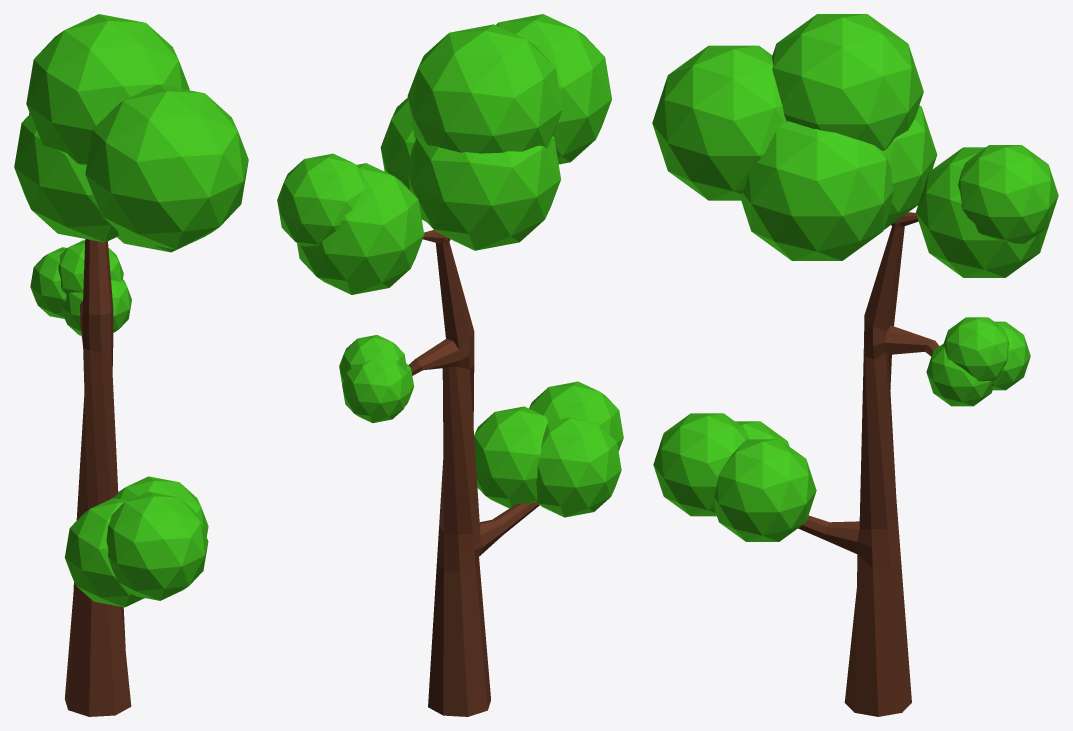
The model's file is tree2.fbx.
The picture shows the model from 3 angles, left to right: view 1: azimuth 30°, elevation 25°; view 2: azimuth 150°, elevation 25°; view 3: azimuth 270°, elevation 25°; orthographic projection. The views are drawn at different scales.
Parts seen in each view (by area): view 1: Cylinder.001; view 2: Cylinder.001; view 3: Cylinder.001.
Boxes of the visible parts, x1,y1,x2,y2 form: Cylinder.001: (14, 14, 248, 716); Cylinder.001: (277, 14, 623, 716); Cylinder.001: (652, 14, 1058, 716).
Bounding box in the file's own units: 711 × 2233 × 1208.
